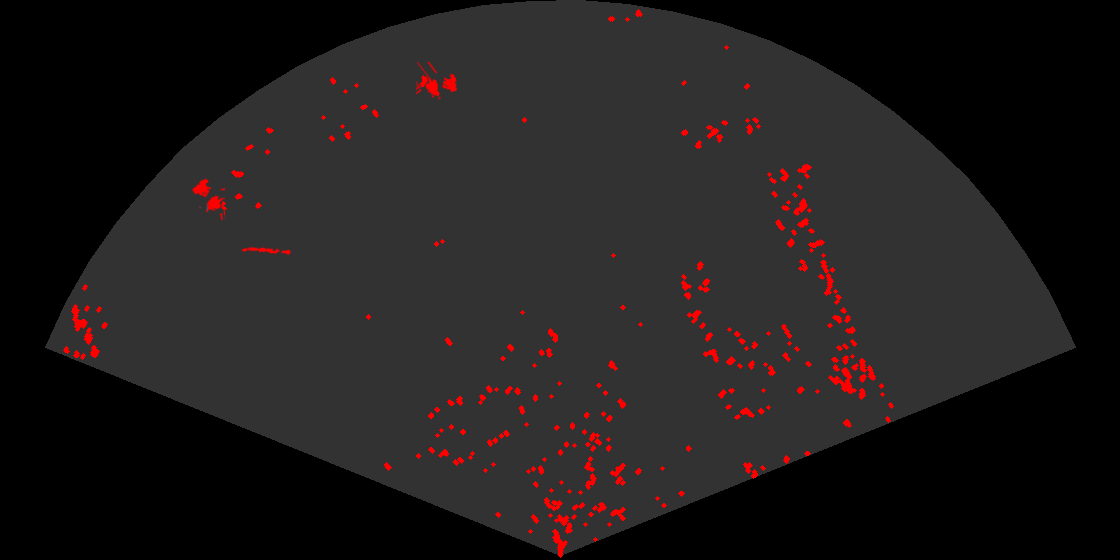cage: (416, 62, 459, 101), (191, 177, 225, 220)
chain: (241, 245, 292, 256)
